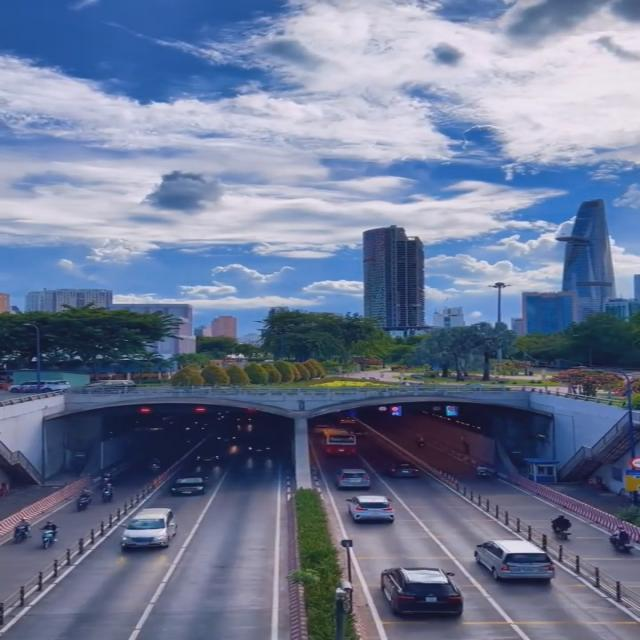car: (380, 564, 465, 619), (477, 540, 557, 588), (120, 509, 177, 554), (348, 494, 394, 526), (172, 474, 207, 496), (338, 468, 371, 490), (386, 460, 421, 480)
motorbike: (606, 523, 633, 553), (552, 511, 572, 541), (10, 518, 32, 542), (41, 522, 58, 549), (77, 489, 93, 512), (100, 484, 116, 503)
